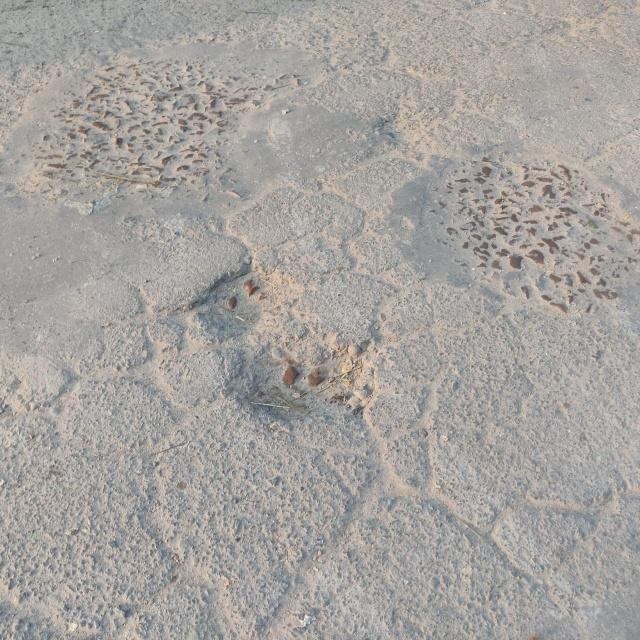Surface Erosion: (18, 41, 640, 566)
